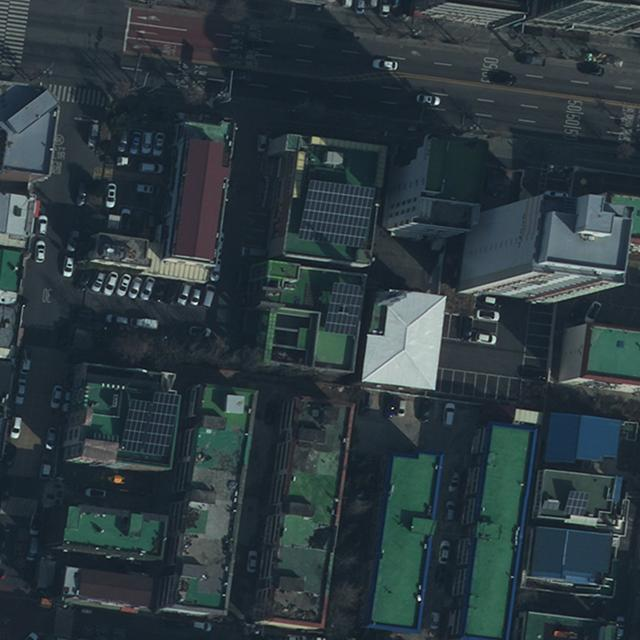panel: (294, 177, 376, 246), (140, 391, 180, 457), (322, 281, 366, 336), (118, 398, 150, 454), (565, 489, 591, 514)
